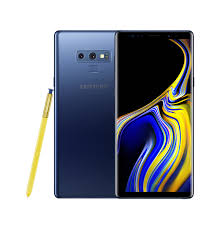samsung: (111, 27, 197, 202), (52, 28, 120, 199)
